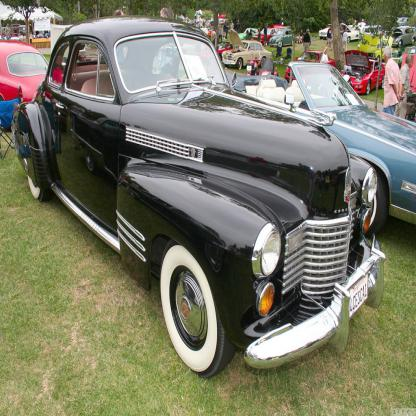Car: (0, 13, 416, 376)
